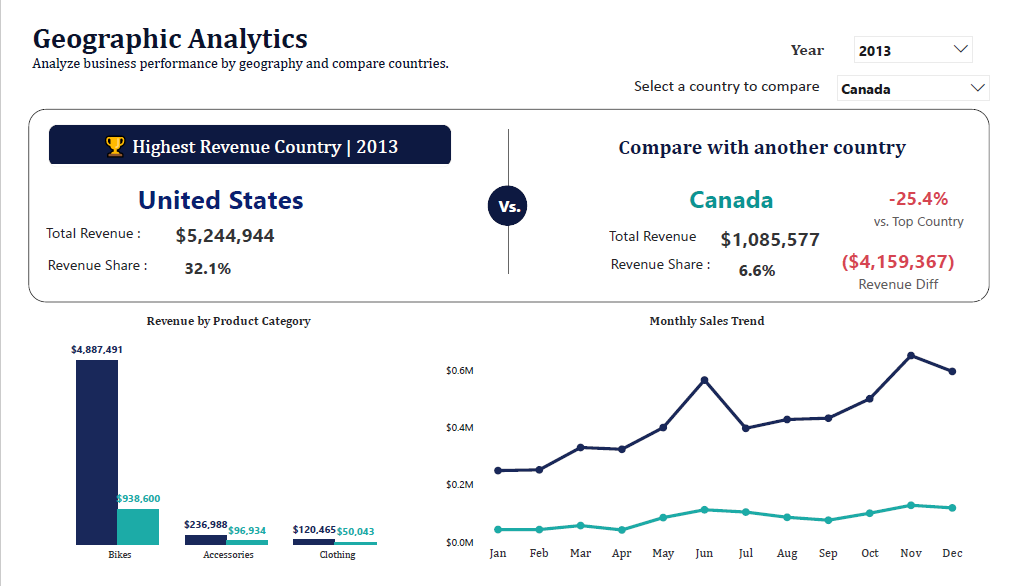

The page's visual inventory and layout, read from the dashboard file:
{"tool":"powerbi","page":{"name":"Geographic Analytics","canvas":[1280,720],"ordinal":3},"visuals":[{"type":"slicer","fields":{"Values":["dim_date.Date.Variation.Date Hierarchy.Year"]},"box":[1083.9,14,174.7,55.4],"z":0,"group":"g1"},{"type":"shape","box":[11.7,120,1258.3,253.3],"z":0},{"type":"textbox","box":[11.7,0,615,95],"z":1000},{"type":"textbox","box":[981.4,24.1,102.5,37],"z":1000,"group":"g1"},{"type":"textbox","box":[800,71.7,258.3,45],"z":2000},{"type":"group","id":"g1","title":"Group 1","box":[981.4,14,278.4,56.1],"z":3000},{"type":"slicer","fields":{"Values":["gold dim_customers.country"]},"box":[1060,65,220,63.3],"z":4000},{"type":"cardVisual","fields":{"Data":["Created_measures.Top Country Share %"]},"box":[191.7,295,110,61.7],"z":5000},{"type":"cardVisual","fields":{"Data":["Created_measures.Top Country Sales"]},"box":[171.7,251.7,195,60],"z":6000},{"type":"textbox","box":[696.7,138.3,551.7,70],"z":7000},{"type":"cardVisual","fields":{"Data":["Created_measures.Top Country Title"]},"box":[26,128.3,551.7,80],"z":8000},{"type":"cardVisual","fields":{"Data":["Created_measures.Selected Country"]},"box":[781.7,193.3,301.7,85],"z":9000},{"type":"cardVisual","fields":{"Data":["Created_measures.Selected Country Share %"]},"box":[901.7,298.3,128.3,61.7],"z":10000},{"type":"cardVisual","fields":{"Data":["Created_measures.Revenue Difference"]},"box":[1043.3,291.7,215,78],"z":11000},{"type":"textbox","box":[766.7,273.3,148.3,36.7],"z":12000},{"type":"cardVisual","fields":{"Data":["Created_measures.Share Difference"]},"box":[1095,206.7,165,81.7],"z":13000},{"type":"clusteredColumnChart","title":"Revenue by Product Category","fields":{"Category":["gold dim_products.category"],"Y":["Created_measures.Top Country Sales","Created_measures.Selected Country Sales"]},"box":[13.3,388.3,521.7,331.7],"z":14000},{"type":"lineChart","title":"Monthly Sales Trend","fields":{"Y":["Created_measures.Top Country Sales","Created_measures.Selected Country Sales"],"Category":["dim_date.Date Hierarchy.Month_name"]},"box":[553.3,388.3,695,331.7],"z":15000},{"type":"textbox","box":[30.4,269.1,148.2,38.1],"z":16000},{"type":"textbox","box":[36.4,311.2,134.2,46.1],"z":17000},{"type":"cardVisual","fields":{"Data":["Created_measures.Top Country"]},"box":[126.7,198.3,273.3,75],"z":18000},{"type":"shape","box":[490,146.7,300,188.3],"z":18500},{"type":"textbox","box":[773.3,310,135,46.7],"z":19000},{"type":"cardVisual","fields":{"Data":["Created_measures.Selected Country Sales"]},"box":[888.3,258.3,190,60],"z":21000},{"type":"shape","box":[613.3,220,51.7,53.3],"z":22000},{"type":"textbox","box":[606.7,226.7,70,56.7],"z":24000}]}

Visuals, with their boxes in screenshot pixels (x1, y1, x2, y2), scaled from the page's 1280x720 canvas onto the 1014x586 screenshot:
slicer - dim_date.Date.Variation.Date Hierarchy.Year: {"x1": 859, "y1": 11, "x2": 997, "y2": 56}
shape: {"x1": 9, "y1": 98, "x2": 1006, "y2": 304}
textbox: {"x1": 9, "y1": 0, "x2": 496, "y2": 77}
textbox: {"x1": 777, "y1": 20, "x2": 859, "y2": 50}
textbox: {"x1": 634, "y1": 58, "x2": 838, "y2": 95}
"Group 1" group: {"x1": 777, "y1": 11, "x2": 998, "y2": 57}
slicer - gold dim_customers.country: {"x1": 840, "y1": 53, "x2": 1013, "y2": 104}
cardVisual - Created_measures.Top Country Share %: {"x1": 152, "y1": 240, "x2": 239, "y2": 290}
cardVisual - Created_measures.Top Country Sales: {"x1": 136, "y1": 205, "x2": 290, "y2": 254}
textbox: {"x1": 552, "y1": 113, "x2": 989, "y2": 170}
cardVisual - Created_measures.Top Country Title: {"x1": 21, "y1": 104, "x2": 458, "y2": 170}
cardVisual - Created_measures.Selected Country: {"x1": 619, "y1": 157, "x2": 858, "y2": 227}
cardVisual - Created_measures.Selected Country Share %: {"x1": 714, "y1": 243, "x2": 816, "y2": 293}
cardVisual - Created_measures.Revenue Difference: {"x1": 826, "y1": 237, "x2": 997, "y2": 301}
textbox: {"x1": 607, "y1": 222, "x2": 725, "y2": 252}
cardVisual - Created_measures.Share Difference: {"x1": 867, "y1": 168, "x2": 998, "y2": 235}
"Revenue by Product Category" clusteredColumnChart: {"x1": 11, "y1": 316, "x2": 424, "y2": 585}
"Monthly Sales Trend" lineChart: {"x1": 438, "y1": 316, "x2": 989, "y2": 585}
textbox: {"x1": 24, "y1": 219, "x2": 141, "y2": 250}
textbox: {"x1": 29, "y1": 253, "x2": 135, "y2": 291}
cardVisual - Created_measures.Top Country: {"x1": 100, "y1": 161, "x2": 317, "y2": 222}
shape: {"x1": 388, "y1": 119, "x2": 626, "y2": 273}
textbox: {"x1": 613, "y1": 252, "x2": 720, "y2": 290}
cardVisual - Created_measures.Selected Country Sales: {"x1": 704, "y1": 210, "x2": 854, "y2": 259}
shape: {"x1": 486, "y1": 179, "x2": 527, "y2": 222}
textbox: {"x1": 481, "y1": 185, "x2": 536, "y2": 231}
